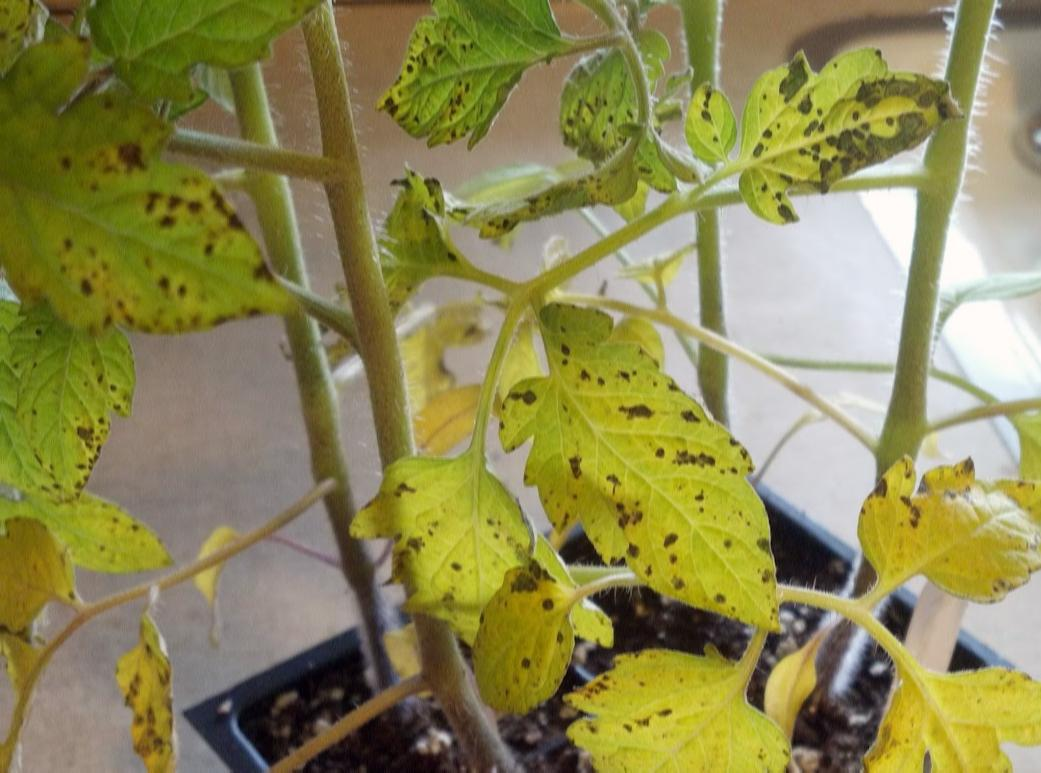Tomato Septoria leaf spot: (510, 297, 796, 653), (0, 36, 306, 341), (725, 32, 963, 238), (325, 437, 539, 643), (0, 268, 164, 510), (555, 626, 796, 773), (362, 7, 589, 138)
